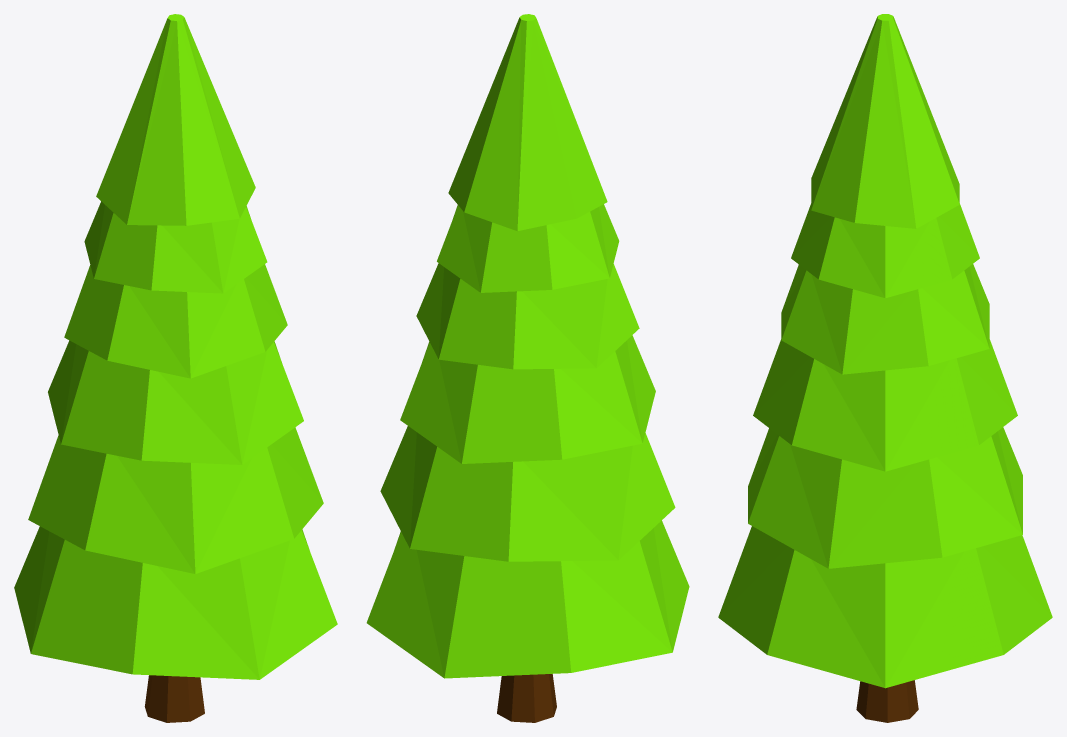
File: TreePine_04.FBX
3 renders of one model, left to right at view 1: azimuth 30°, elevation 25°; view 2: azimuth 150°, elevation 25°; view 3: azimuth 270°, elevation 25°, orthographic.
Parts seen in each view (by area): view 1: Group1; view 2: Group1; view 3: Group1.
Boxes of the visible parts, x1,y1,x2,y2 form: Group1: (14,14,337,722); Group1: (366,14,689,722); Group1: (718,14,1052,722).
Size of the model in its own units: 7.25 by 7.25 by 16.56.
